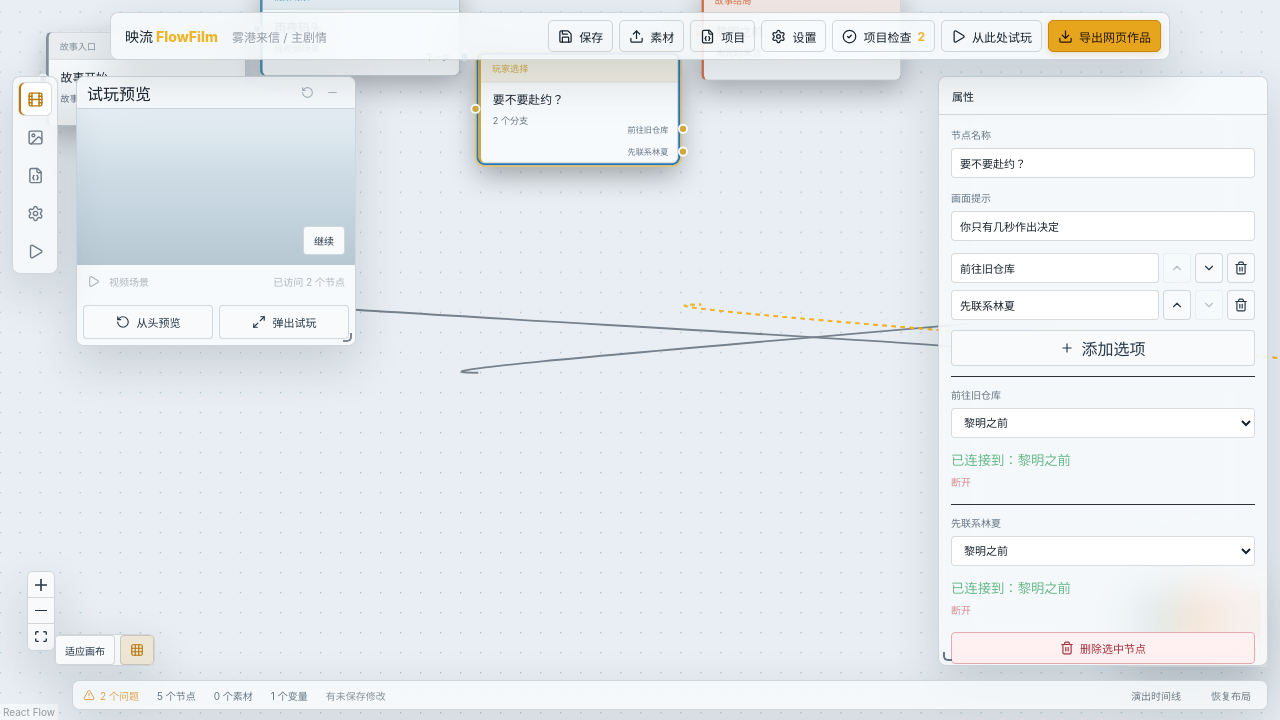
editor workbench › switches chapters and requests focus when a diagnostic issue is opened
What coordinates should you click on to do the following:
click the button "项目检查 2"
I would click on:
 (884, 36)
Its box is [832,20,935,52].
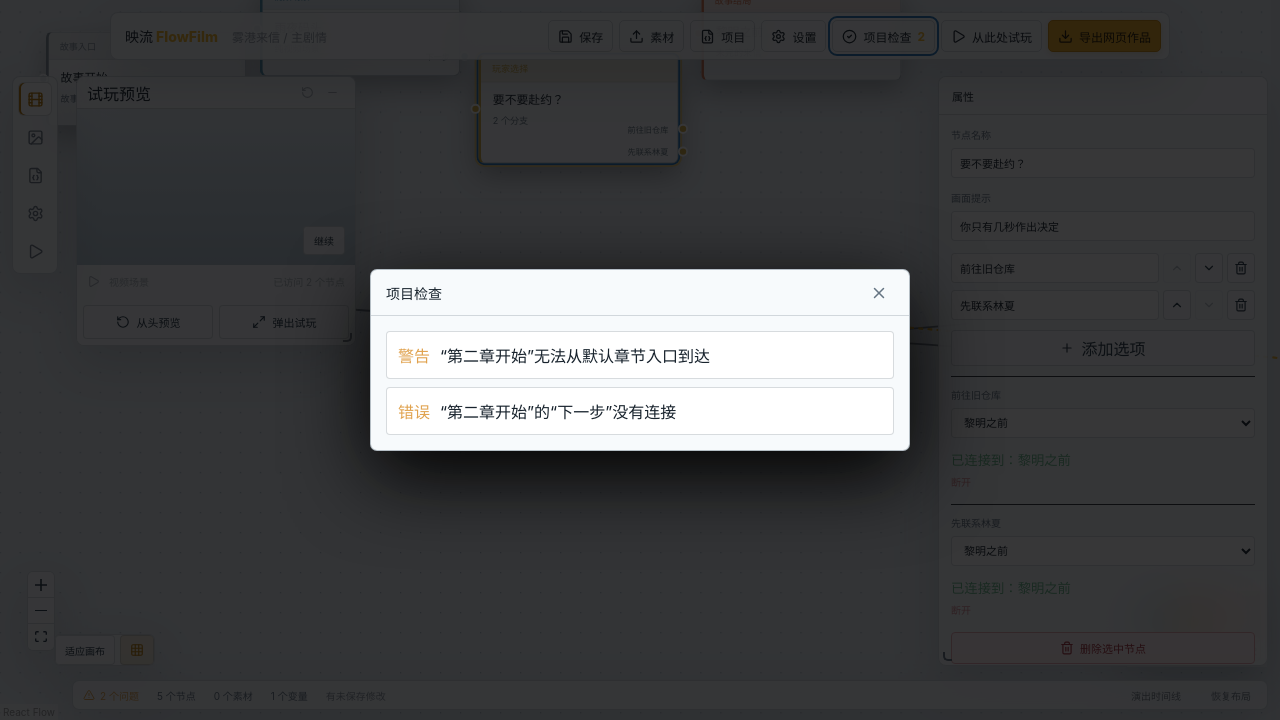
What coordinates should you click on to do the following:
click the button "错误 “第二章开始”的“下一步”没有连接"
I would click on:
 (640, 411)
Its box is [386,387,894,435].
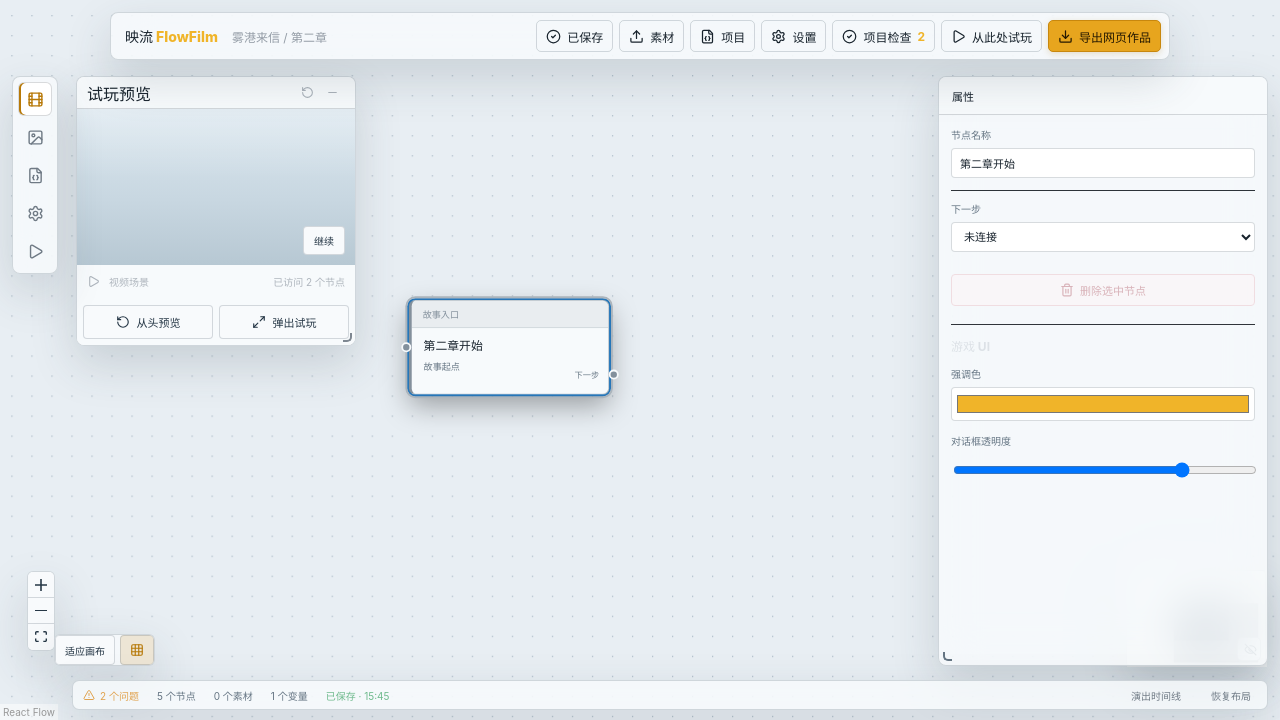
Now the element with test id "story-graph" has attribute data-chapter-id="chapter-two"
Now the element with test id "story-graph" has attribute data-focus-node-id="chapter-two-start"
